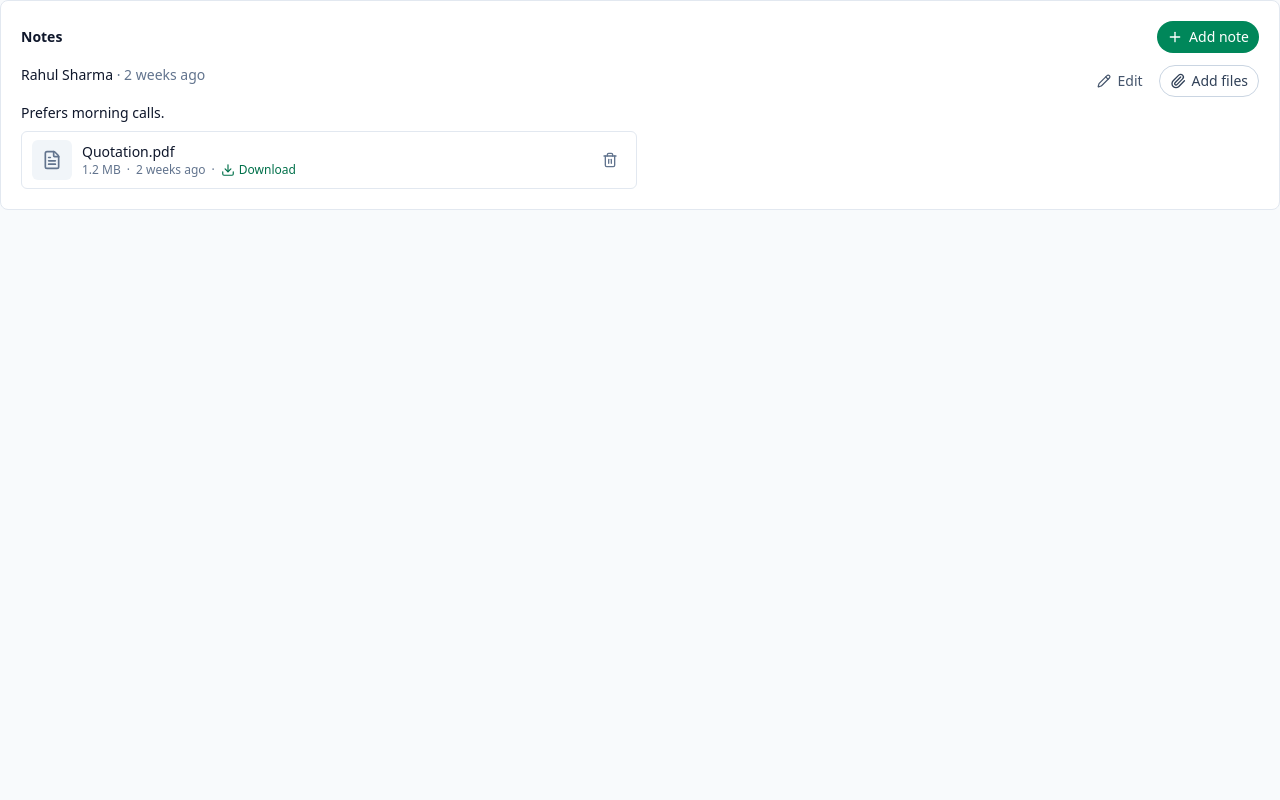
a deal's notes › removes a file after a danger-toned confirmation
What coordinates should you click on to do the following:
click the button named "Remove Quotation.pdf"
I would click on:
 (610, 160)
Its box is [594,144,626,176].
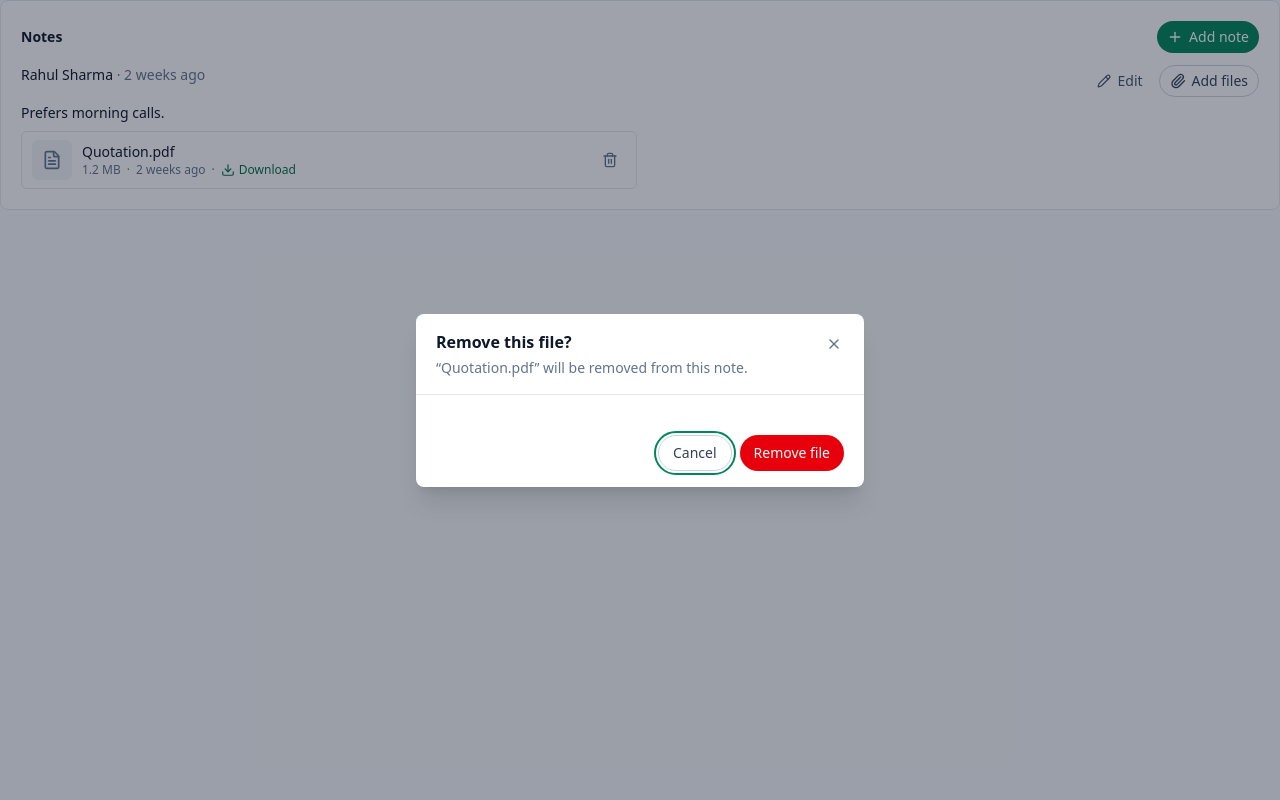
Result: the text "“Quotation.pdf” will be removed from this note." is shown at [436,358,748,378]
What coordinates should you click on to do the following:
click the button "Remove file"
I would click on:
 (792, 452)
Its box is [740,434,844,470].
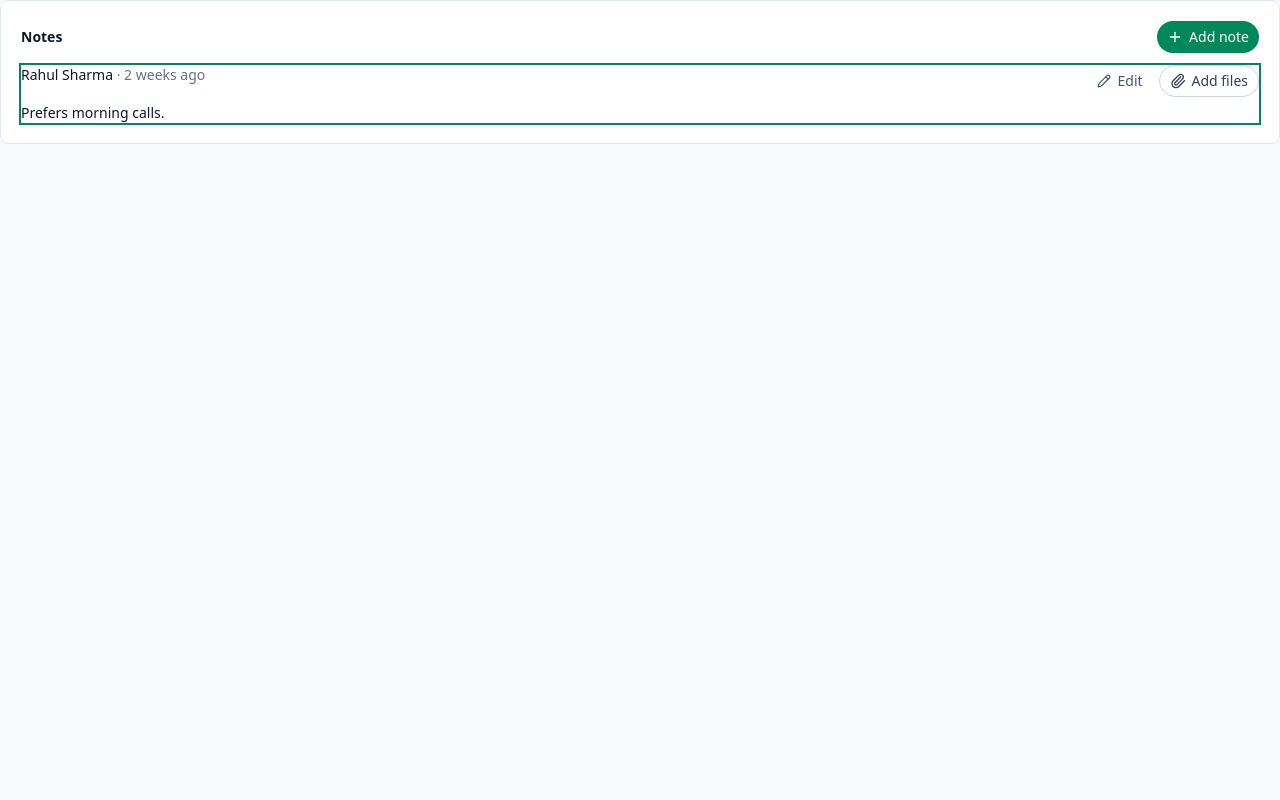
Result: the text titled "Quotation.pdf" is gone
Result: the dialog is gone
